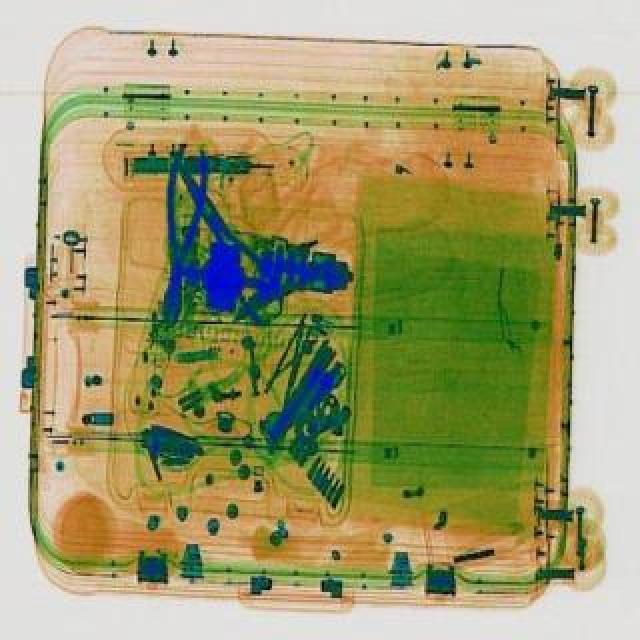wrench: (156, 152, 294, 330), (148, 146, 208, 328)
